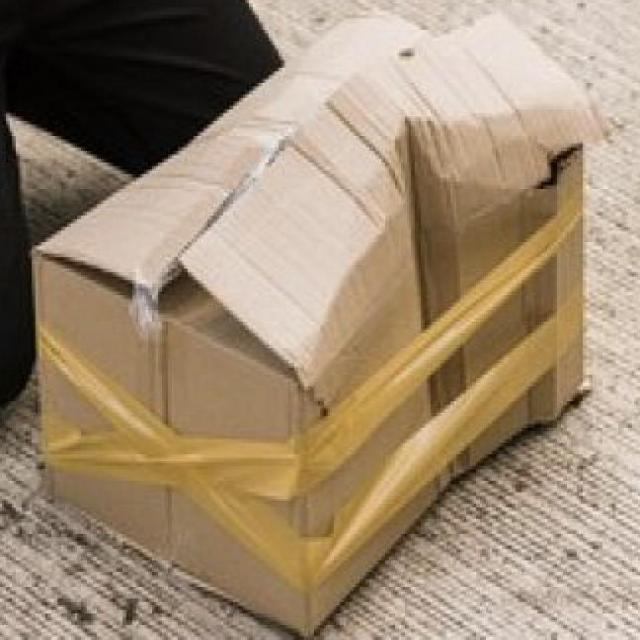damaged: (523, 138, 581, 192)
